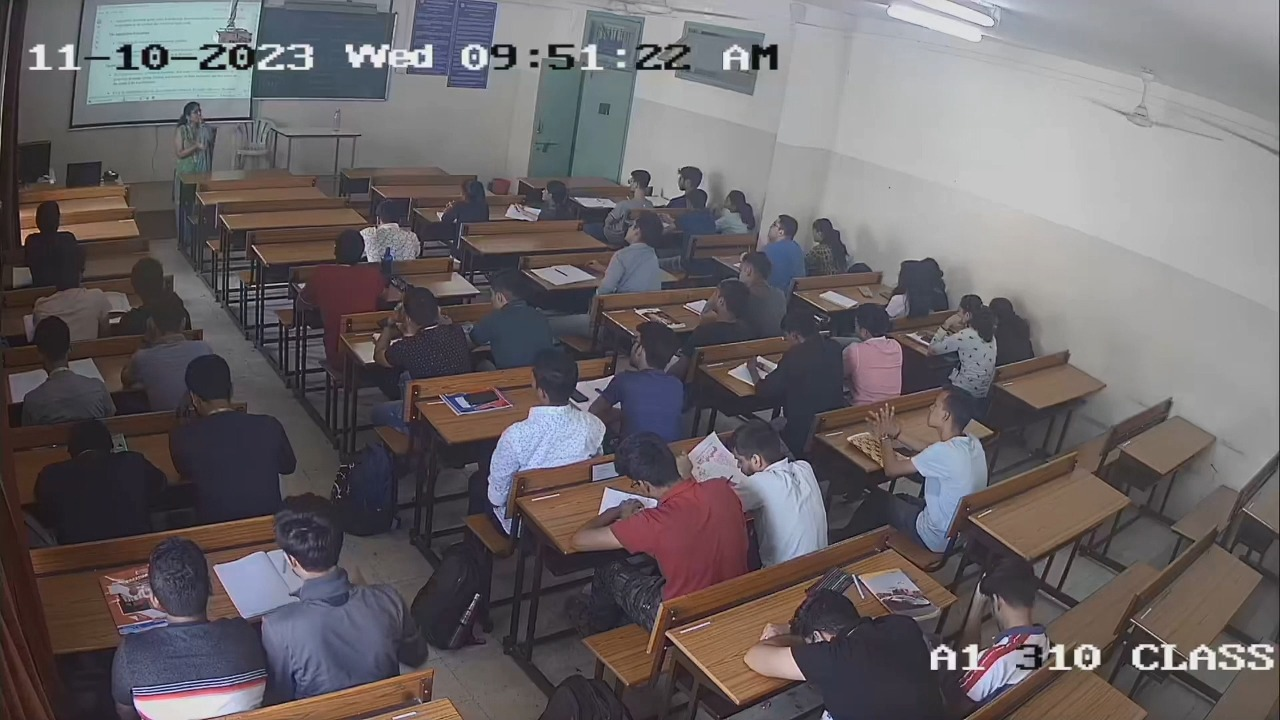cell-phones: (587, 461, 623, 484), (462, 387, 499, 407), (570, 386, 594, 405), (857, 284, 874, 299)
person: (582, 430, 753, 586), (484, 348, 610, 469), (884, 260, 935, 318)
